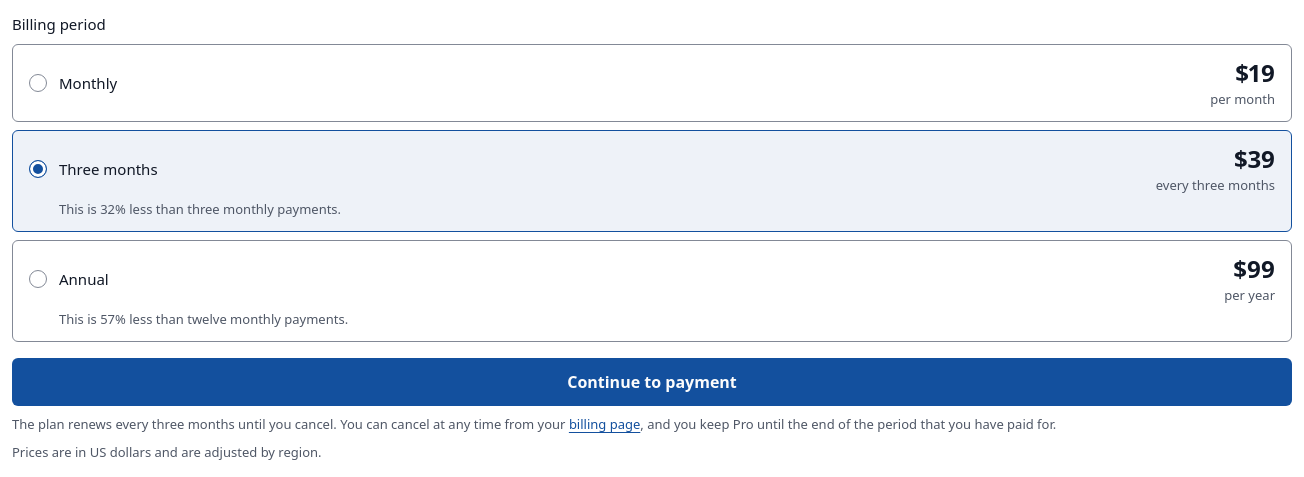
Scenario: the plan chooser › says how the chosen period renews, and where the plan is canceled
Check: the text "The plan renews every three months until you cancel." is shown, box [12,415,337,433]
Click the radio button labelled "Monthly $19 per month". click: (38, 83)
box: [29,74,47,92]
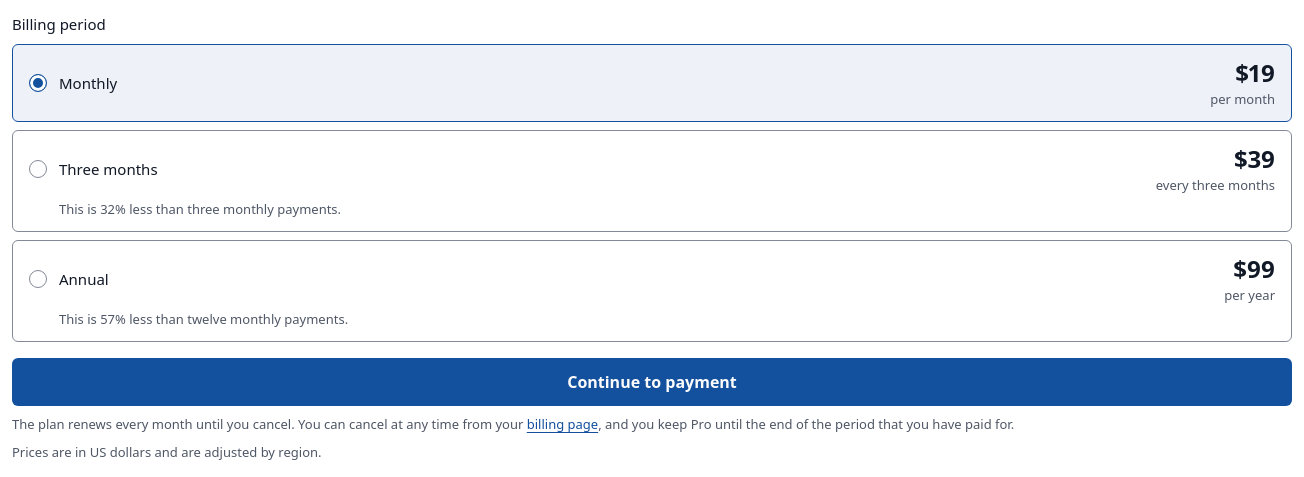
Check: the text "The plan renews every month until you cancel." is shown, box [12,415,295,433]
Click the radio button labelled "Annual". click: (38, 279)
box: [29,270,47,288]
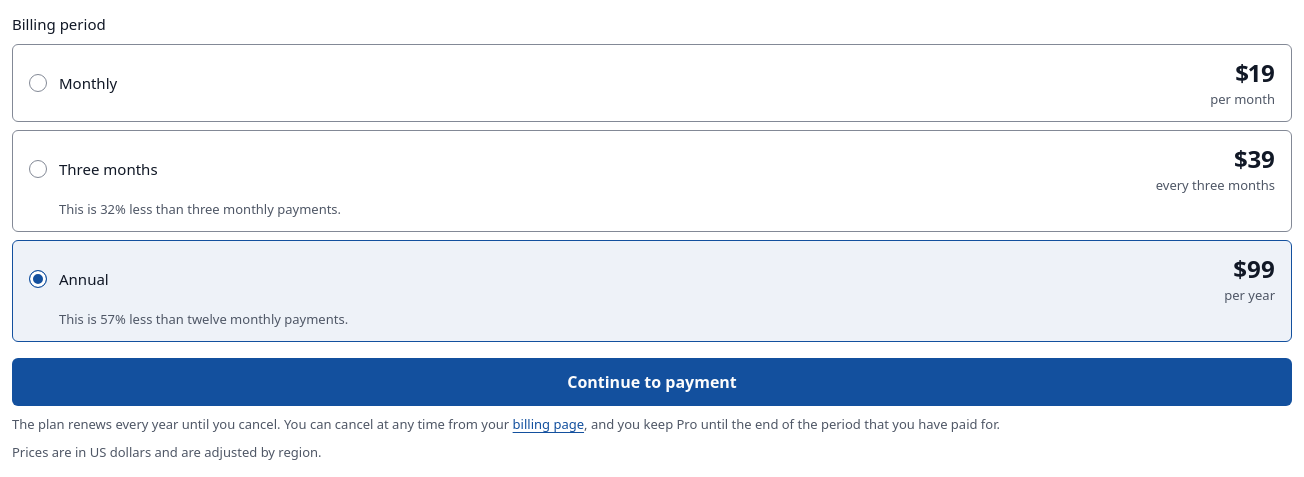
Check: the text "The plan renews every year until you cancel." is shown, box [12,415,280,433]
